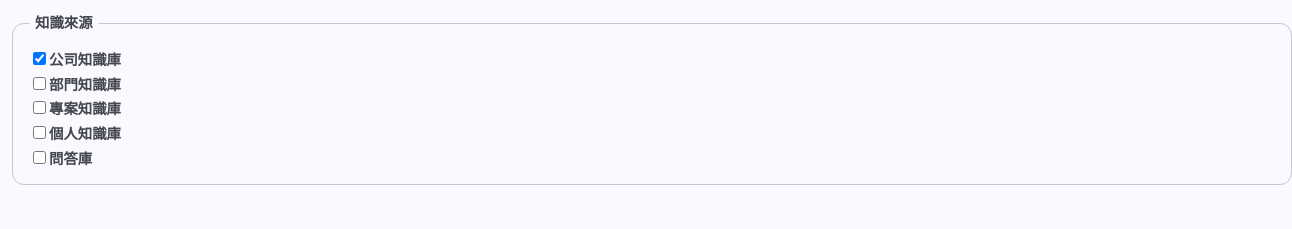
Scenario: KnowledgeSelector (E03-S003/S004) › shows a distinct error state and keeps the previous selection when the switch fails
The width and height of the screenshot is (1292, 229).
Click the checkbox labelled "問答庫" at coordinates (40, 157), box left=33, top=151, right=46, bottom=164
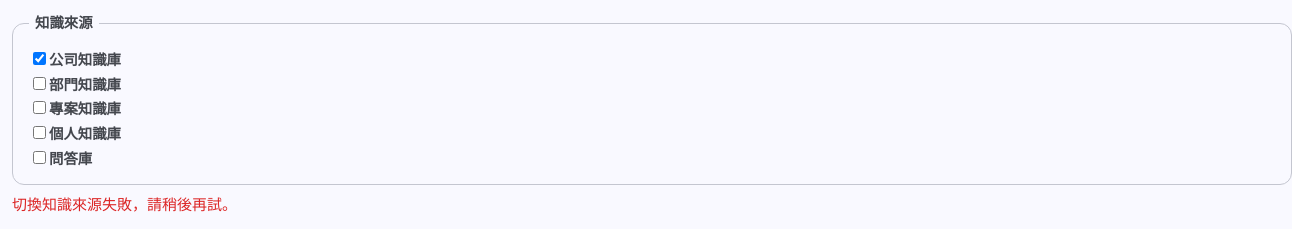
Expected: the checkbox labelled "公司知識庫" is checked, left=33, top=52, right=46, bottom=65
Now the message reads "切換知識來源失敗，請稍後再試。", box left=12, top=197, right=237, bottom=213
